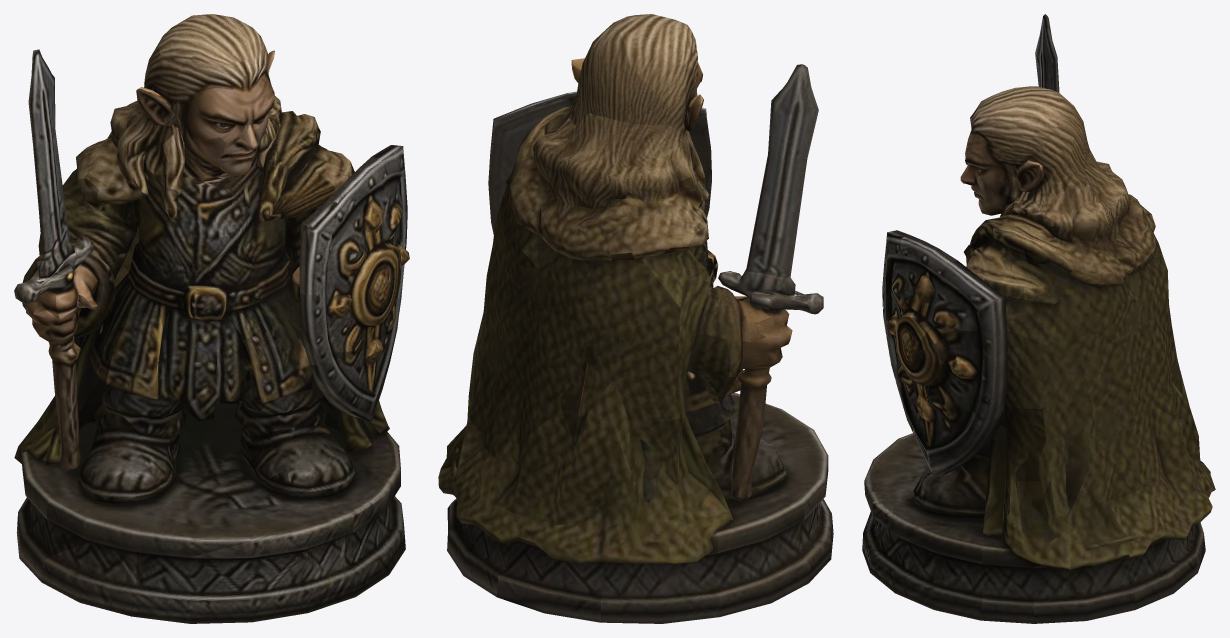
The model's file is elf_warrior.glb.
3 renders of one model, left to right at view 1: azimuth 30°, elevation 25°; view 2: azimuth 150°, elevation 25°; view 3: azimuth 270°, elevation 25°, orthographic. The views are drawn at different scales.
Visible parts, largest first — view 1: mesh_node; view 2: mesh_node; view 3: mesh_node.
Part boxes in pixels (x1=…): mesh_node: x1=14, y1=14, x2=409, y2=623; mesh_node: x1=438, y1=14, x2=833, y2=623; mesh_node: x1=862, y1=14, x2=1215, y2=623.
Bounding box in the file's own units: 0.7226 × 1 × 0.6914.
Materials: 1 (1 with a texture image).
